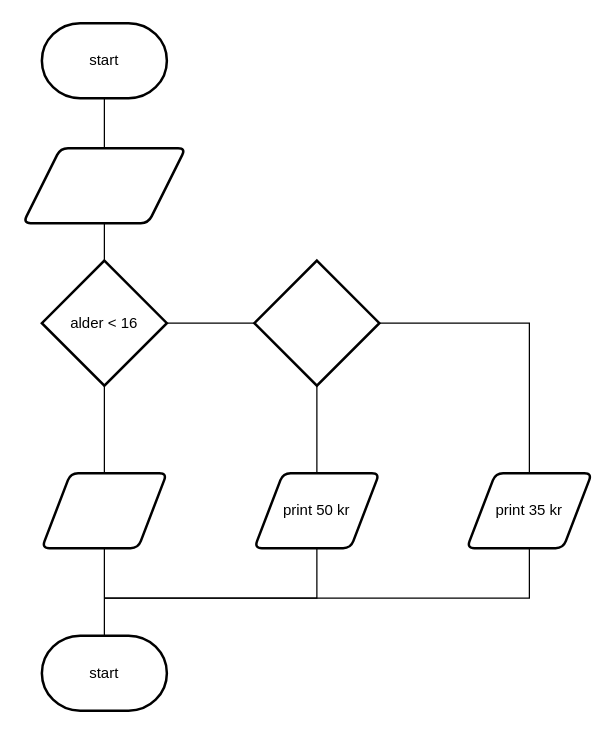
This 614x733 diagram has some shape labels left out. Each missing label, with the centre of its shape:
alder < 67: [316,322]
print 30 kr: [104,510]
spør om alder: [103,185]
